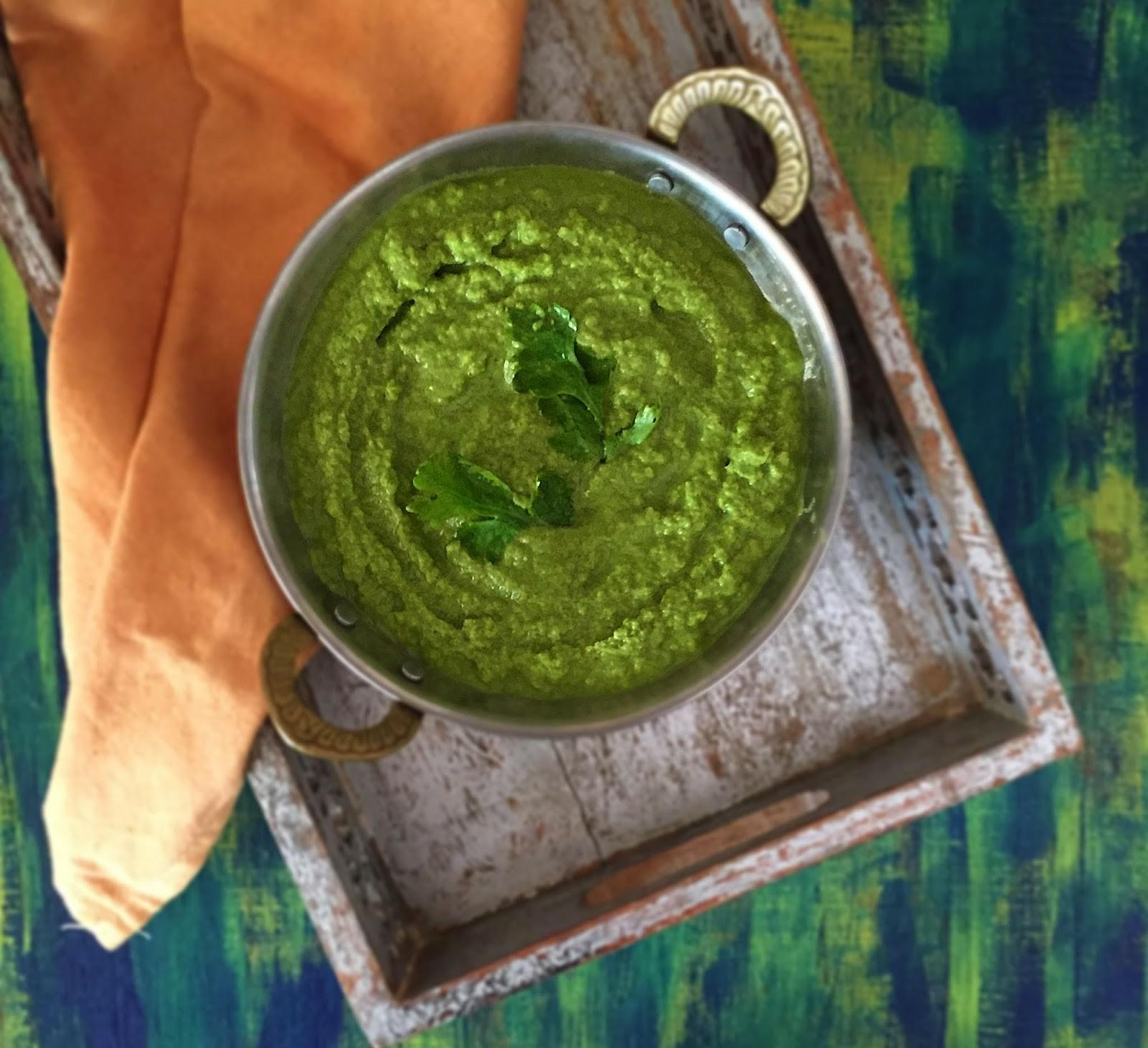GreenChutney: (276, 162, 811, 710)
